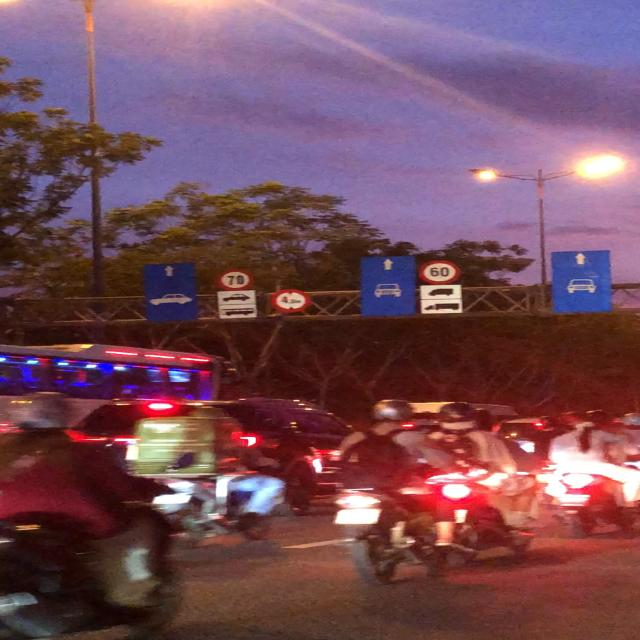Bien bao han che chieu cao: (268, 286, 312, 315)
Bien bao toc do toi da cho phep: (416, 258, 465, 286), (213, 266, 253, 292)
